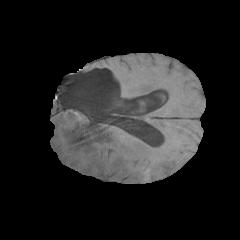glioma: (51, 67, 141, 178)
